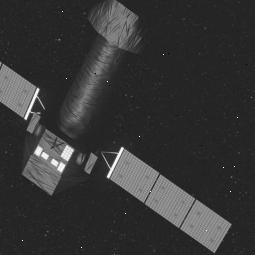xmm_newton: (11, 29, 240, 249)
